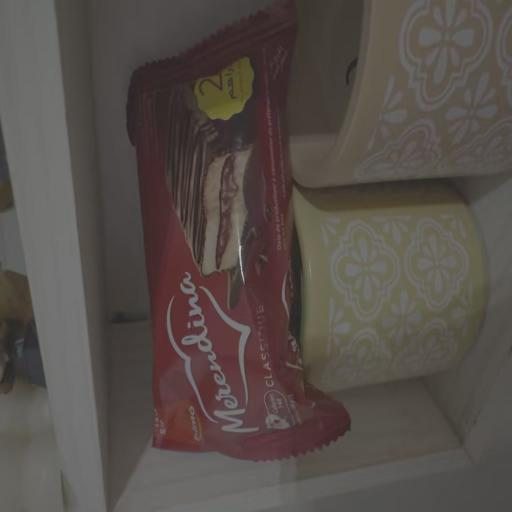merendina: (99, 16, 412, 476)
